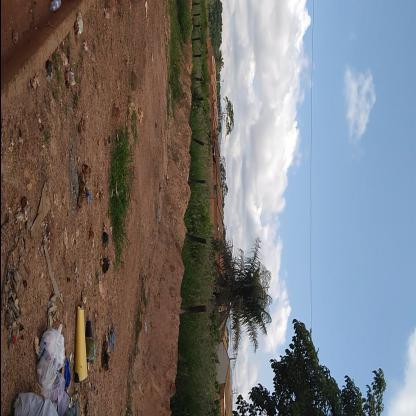lixo: (32, 330, 93, 415)
